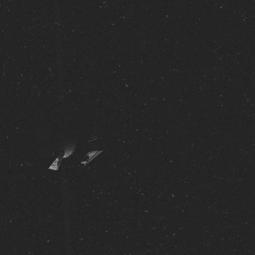xmm_newton: (21, 106, 140, 178)
